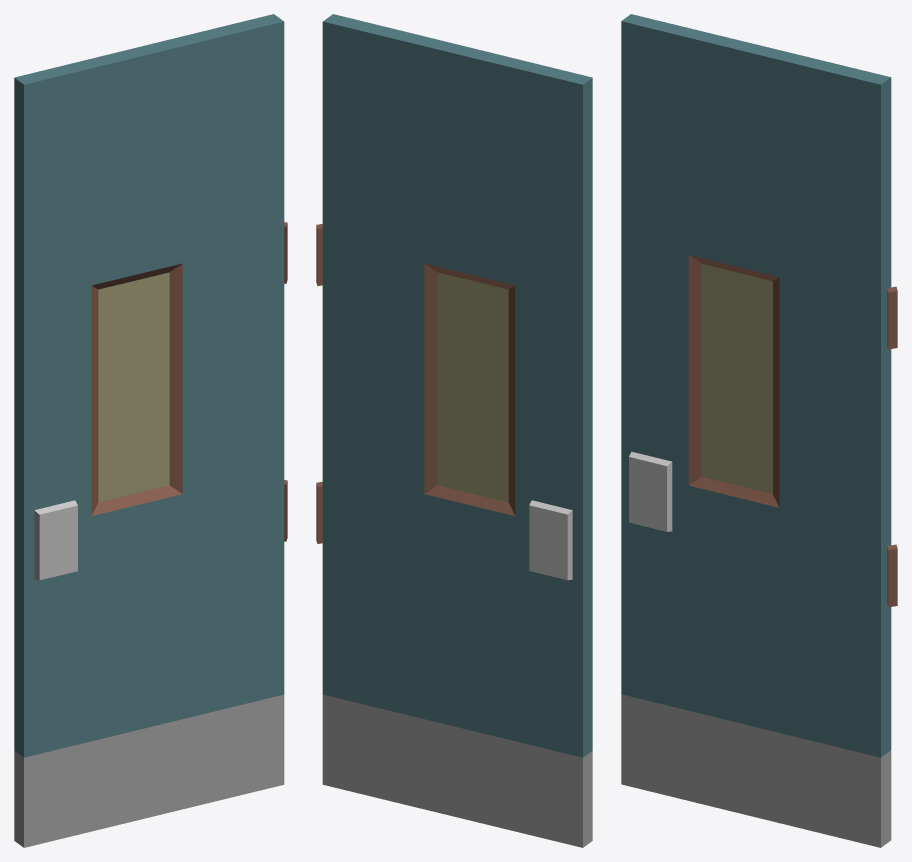
The model's file is SM_Door_B2_Left.fbx.
3 views of the same model, side by side, from view 1: azimuth 30°, elevation 25°; view 2: azimuth 150°, elevation 25°; view 3: azimuth 330°, elevation 25° (orthographic).
Parts seen in each view (by area): view 1: SM_Door_B2_Left; view 2: SM_Door_B2_Left; view 3: SM_Door_B2_Left.
Part boxes in pixels (x1,y1,x2,y2): SM_Door_B2_Left: [14, 14, 287, 847]; SM_Door_B2_Left: [316, 14, 592, 847]; SM_Door_B2_Left: [621, 14, 897, 847].
Size of the model in its own units: 88.26 by 238 by 10.04.
Materials: 1 (1 with a texture image).
